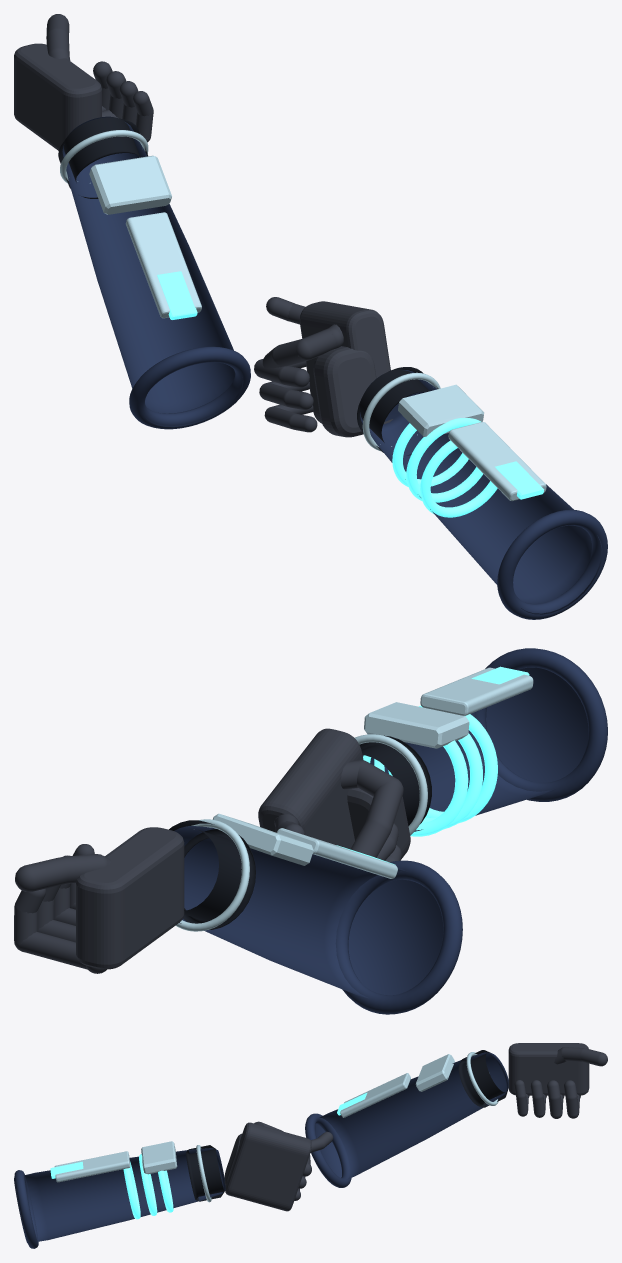
File: hands_glacier.glb
The picture shows the model from 3 angles, top to bottom: view 1: azimuth 30°, elevation 25°; view 2: azimuth 150°, elevation 25°; view 3: azimuth 270°, elevation 25°; orthographic projection. The views are drawn at different scales.
Parts seen in each view (by area): view 1: hand_l_forearm, hand_r_forearm, hand_l_palm, hand_r_sleeve_roll, hand_l_sleeve_roll, hand_r_heel, hand_r_palm, hand_l_cuff_plate, hand_l_forearm_plate, hand_r_forearm_plate, hand_r_cuff_plate, hand_l_cuff (+13 smaller); view 2: hand_l_forearm, hand_l_palm, hand_r_forearm, hand_r_palm, hand_l_sleeve_roll, hand_r_sleeve_roll, hand_l_cuff, hand_r_cuff_plate, hand_r_thumb, hand_r_forearm_plate, hand_l_finger3, hand_l_thumb (+12 smaller); view 3: hand_l_forearm, hand_r_forearm, hand_r_palm, hand_l_palm, hand_l_sleeve_roll, hand_r_cuff, hand_l_cuff, hand_r_forearm_plate, hand_r_sleeve_roll, hand_l_forearm_plate, hand_r_cuff_plate, hand_l_cuff_plate (+10 smaller).
Part boxes in pixels (x1,y1,x2,y2): hand_l_forearm: (62, 116, 243, 427); hand_r_forearm: (360, 370, 602, 614); hand_l_palm: (14, 43, 101, 150); hand_r_sleeve_roll: (497, 509, 607, 619); hand_l_sleeve_roll: (129, 346, 250, 429); hand_r_heel: (313, 346, 376, 437); hand_r_palm: (299, 301, 392, 424); hand_l_cuff_plate: (89, 155, 171, 214); hand_l_forearm_plate: (125, 212, 201, 318); hand_r_forearm_plate: (448, 422, 546, 501); hand_r_cuff_plate: (398, 384, 484, 436); hand_l_cuff: (58, 117, 147, 198); hand_l_forearm: (174, 826, 443, 998); hand_l_palm: (76, 827, 184, 969); hand_r_forearm: (362, 664, 588, 831); hand_r_palm: (258, 728, 363, 849); hand_l_sleeve_roll: (335, 860, 462, 1014); hand_r_sleeve_roll: (474, 648, 607, 801); hand_l_cuff: (169, 820, 255, 929); hand_r_cuff_plate: (364, 702, 469, 748); hand_r_thumb: (340, 760, 403, 857); hand_r_forearm_plate: (420, 667, 533, 715); hand_l_finger3: (14, 888, 87, 969); hand_l_thumb: (15, 854, 111, 891); hand_l_forearm: (315, 1052, 508, 1179); hand_r_forearm: (14, 1148, 225, 1242); hand_r_palm: (225, 1122, 311, 1211); hand_l_palm: (508, 1043, 589, 1095); hand_l_sleeve_roll: (305, 1113, 351, 1187); hand_r_cuff: (186, 1145, 224, 1201); hand_l_cuff: (458, 1050, 508, 1107); hand_r_forearm_plate: (54, 1151, 130, 1182); hand_r_sleeve_roll: (14, 1170, 38, 1248); hand_l_forearm_plate: (340, 1073, 410, 1117); hand_r_cuff_plate: (141, 1141, 177, 1174); hand_l_cuff_plate: (415, 1054, 454, 1091).
Bounding box in the file's own units: 0.2032 × 0.2363 × 0.708.
